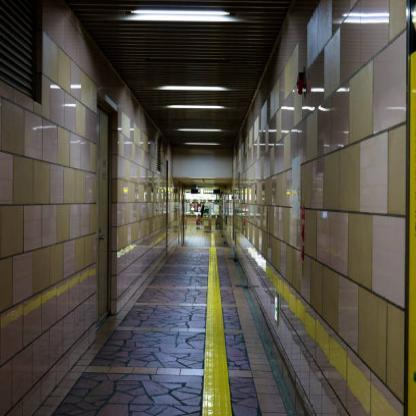podotacti: (180, 210, 237, 416)
